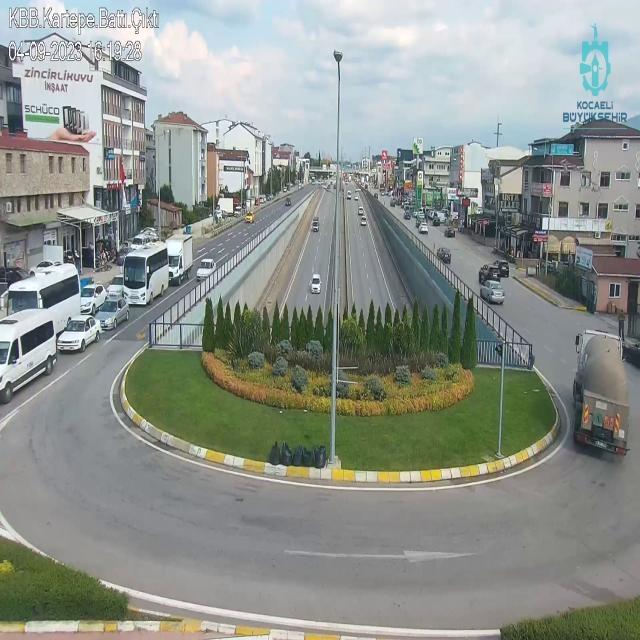Bus: (7, 260, 80, 336), (122, 242, 170, 306)
Car: (56, 314, 102, 353), (92, 299, 128, 331), (80, 282, 107, 314), (481, 281, 506, 304), (478, 264, 502, 284), (197, 257, 217, 280), (30, 260, 60, 273), (105, 276, 122, 298), (494, 258, 510, 277), (309, 274, 322, 295), (436, 247, 452, 263), (418, 222, 428, 234), (113, 275, 122, 276)
Truck: (570, 326, 631, 456), (163, 232, 194, 285), (215, 197, 235, 217)
Van: (0, 306, 57, 402)
